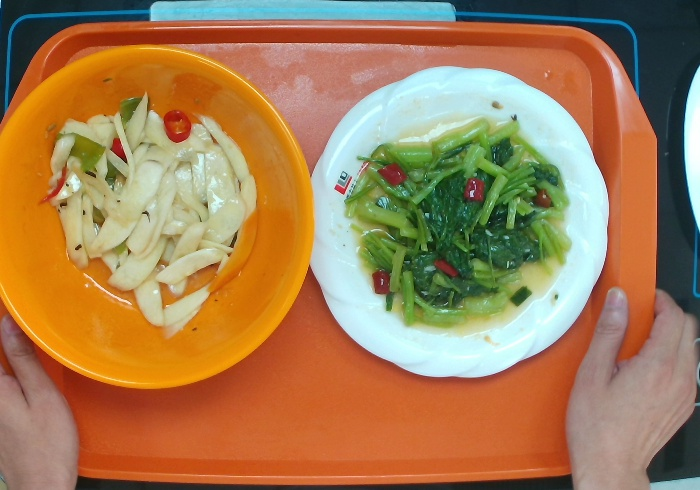ZNLD-Hua_Bian_Wan: (304, 58, 622, 385)
ZNLD-Ju_Se_Tang_Wan: (1, 36, 315, 400)
